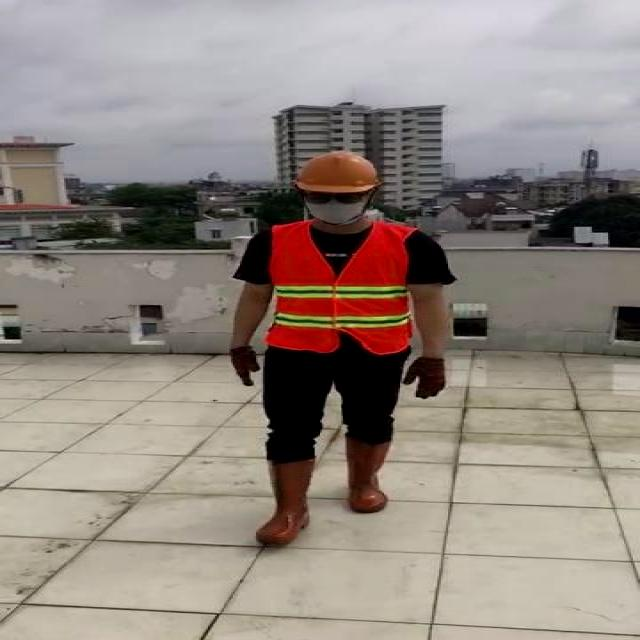boots: (249, 454, 318, 547), (348, 440, 394, 515)
face_mask: (302, 189, 368, 224)
glasses: (303, 189, 367, 206)
hand_glove: (404, 357, 444, 399), (229, 344, 258, 384)
head_helmet: (292, 150, 380, 193)
person: (223, 148, 453, 554)
vest: (268, 221, 414, 351)
